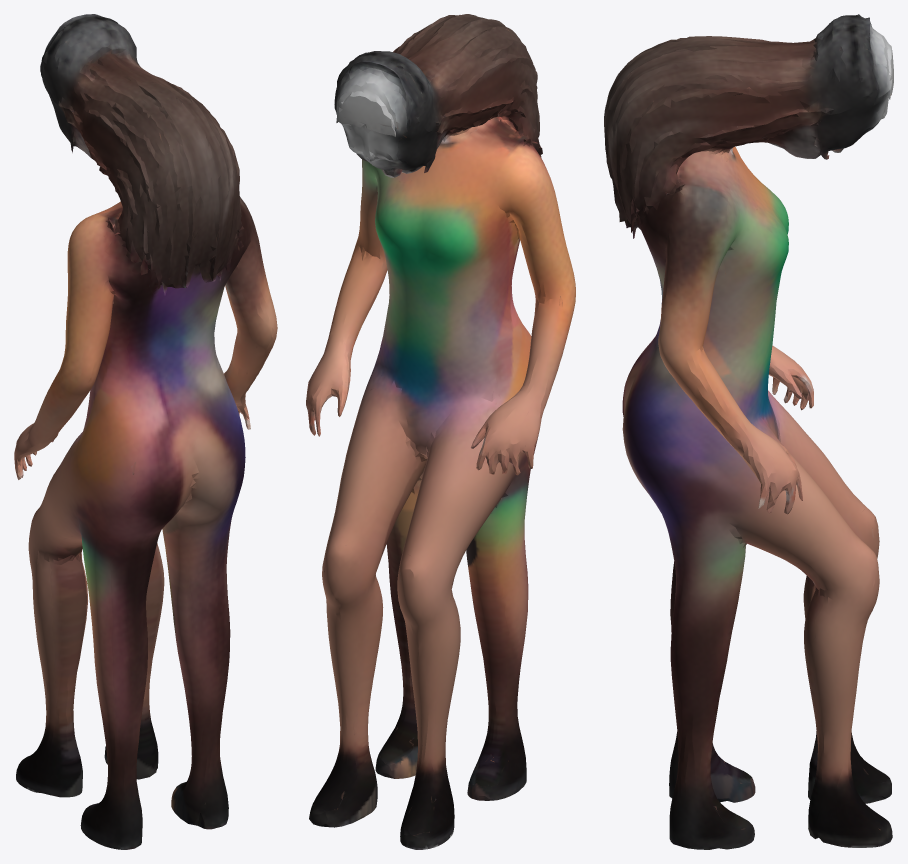
File: alaia.glb
3 views of the same model, side by side, from view 1: azimuth 30°, elevation 25°; view 2: azimuth 150°, elevation 25°; view 3: azimuth 270°, elevation 25° (orthographic). The views are drawn at different scales.
Visible parts, largest first — view 1: Alaia_AI; view 2: Alaia_AI; view 3: Alaia_AI.
Part boxes in pixels (box(x1,y1,x2,y2)): Alaia_AI: box(14, 14, 277, 849); Alaia_AI: box(306, 14, 575, 849); Alaia_AI: box(604, 14, 893, 849).
Bounding box in the file's own units: 0.5063 × 1.6 × 0.5277.
Materials: 1 (1 with a texture image).
